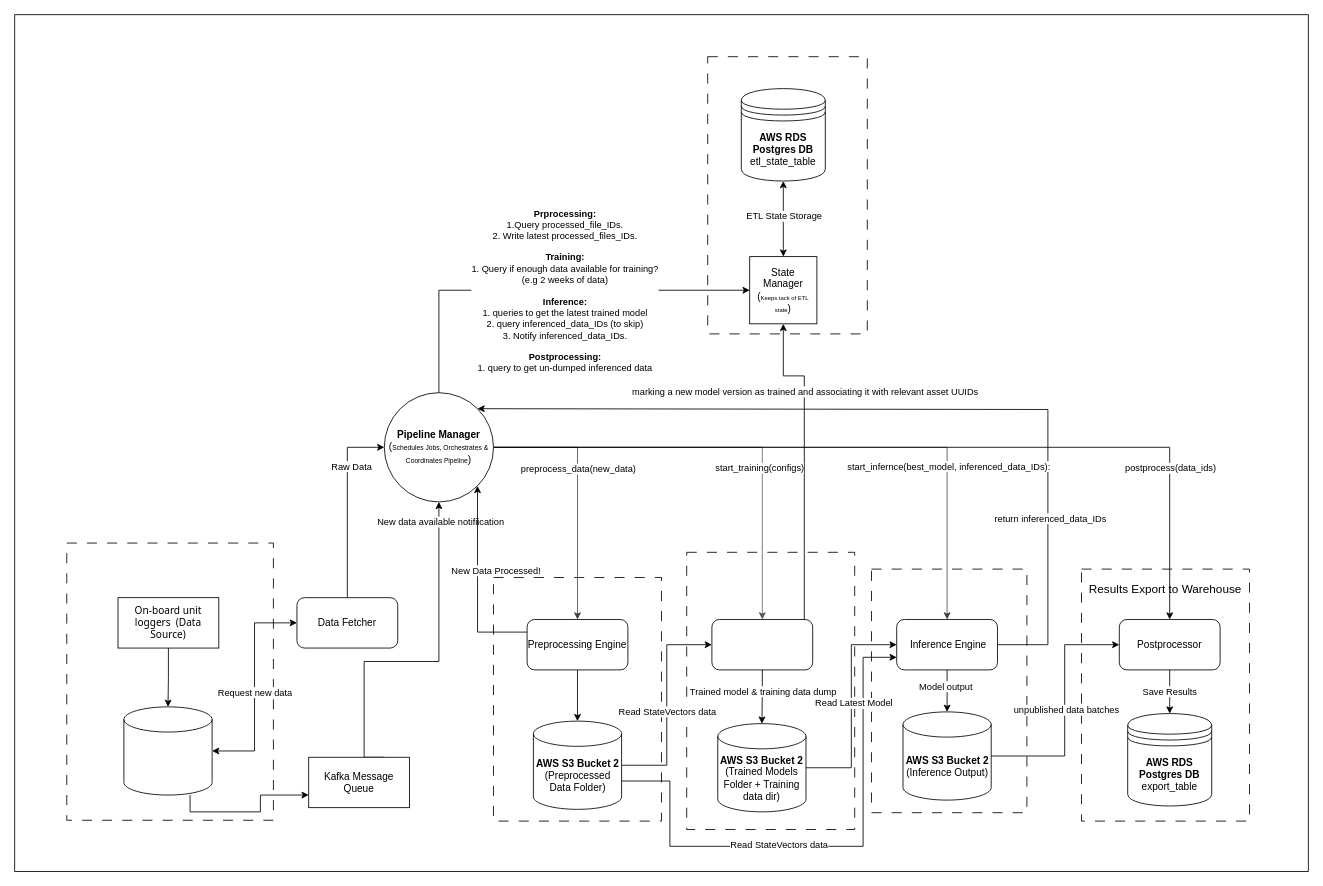
Some shapes in this 1323 by 886 pixel diagram are drawn without their labels. Each missing label, with the box of its shape:
AWS Raw S3 Bucket (Raw Data Folder): (123, 706, 212, 795)
Batch Processing Layer: (493, 577, 662, 821)
Data Ingestion: (66, 542, 273, 820)
Inference Layer: (871, 568, 1027, 813)
ML Model Training Layer: (686, 551, 855, 830)
State Management: (707, 56, 867, 334)
Training Engine: (711, 619, 813, 670)
